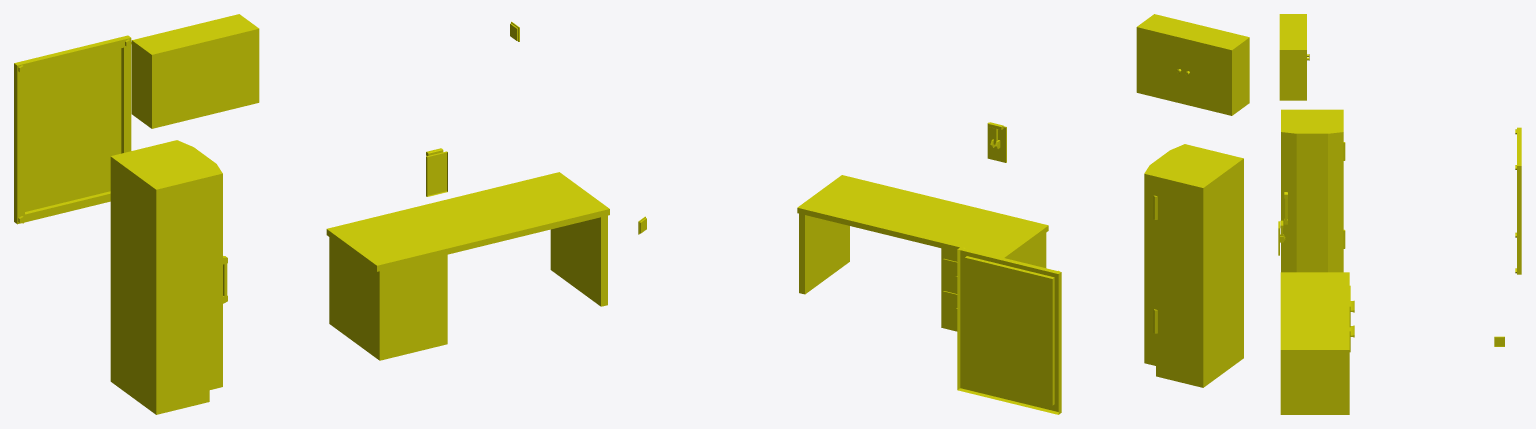
The model's file is Interior_animated.fbx.
3 renders of one model, left to right at view 1: azimuth 30°, elevation 25°; view 2: azimuth 150°, elevation 25°; view 3: azimuth 270°, elevation 25°, orthographic. The views are drawn at different scales.
Visible parts, largest first — view 1: Table, fridge, painting1, locker_base, fridge_door, Lever_base; view 2: fridge, painting1, Table, locker_base, fridge_door, left_door1, right_door, Lever_base; view 3: Table, fridge_door, locker_base, fridge, painting1.
Part boxes in pixels (x1,y1,x2,y2): Table: (326, 172, 609, 360); fridge: (110, 143, 209, 414); painting1: (14, 35, 131, 224); locker_base: (131, 14, 259, 128); fridge_door: (164, 140, 227, 389); Lever_base: (426, 151, 447, 196); fridge: (1156, 147, 1243, 387); painting1: (957, 247, 1061, 414); Table: (797, 175, 1048, 331); locker_base: (1136, 14, 1249, 115); fridge_door: (1144, 144, 1195, 365); left_door1: (1138, 30, 1184, 101); right_door: (1184, 41, 1229, 112); Lever_base: (987, 122, 1006, 162); Table: (1280, 272, 1349, 414); fridge_door: (1281, 127, 1345, 272); locker_base: (1279, 14, 1306, 100); fridge: (1281, 109, 1343, 127); painting1: (1515, 127, 1521, 274).
Bounding box in the file's own units: 1.88 × 1.24 × 1.1.
